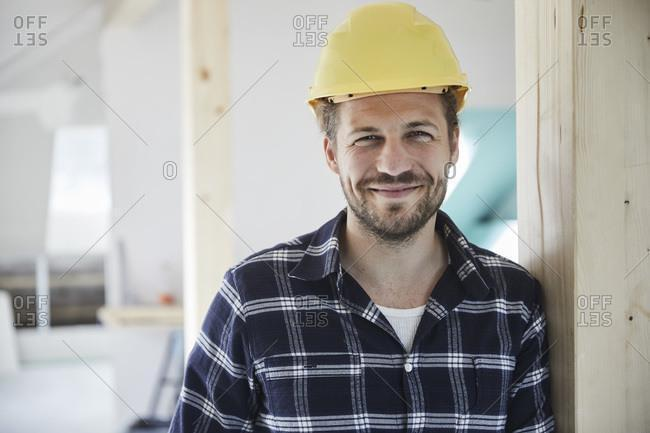helmet: (305, 0, 472, 105)
